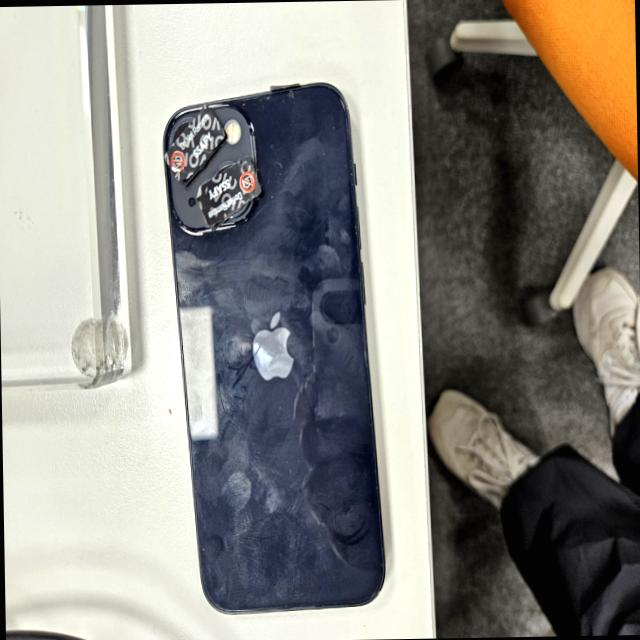phone: (162, 78, 388, 614)
removed_sticker: (163, 107, 224, 180), (198, 156, 258, 220)
